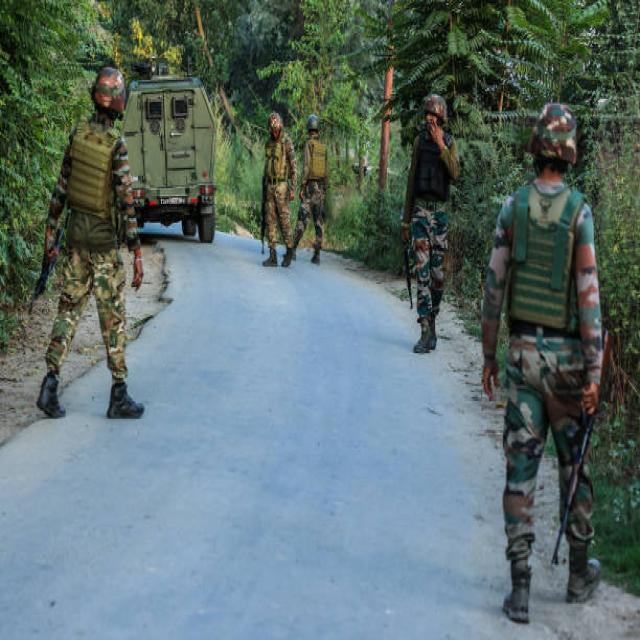soldier: (481, 104, 610, 622), (28, 67, 144, 420), (402, 94, 458, 354), (292, 115, 329, 264), (261, 113, 296, 267)
